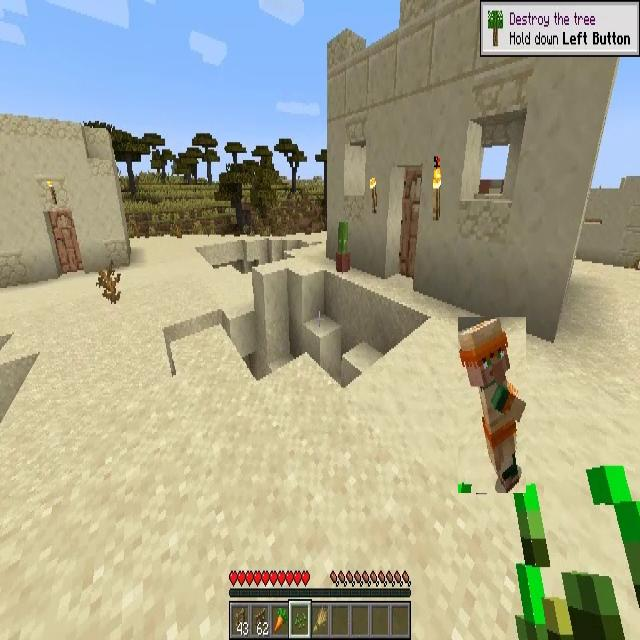people: (458, 317, 526, 493)
